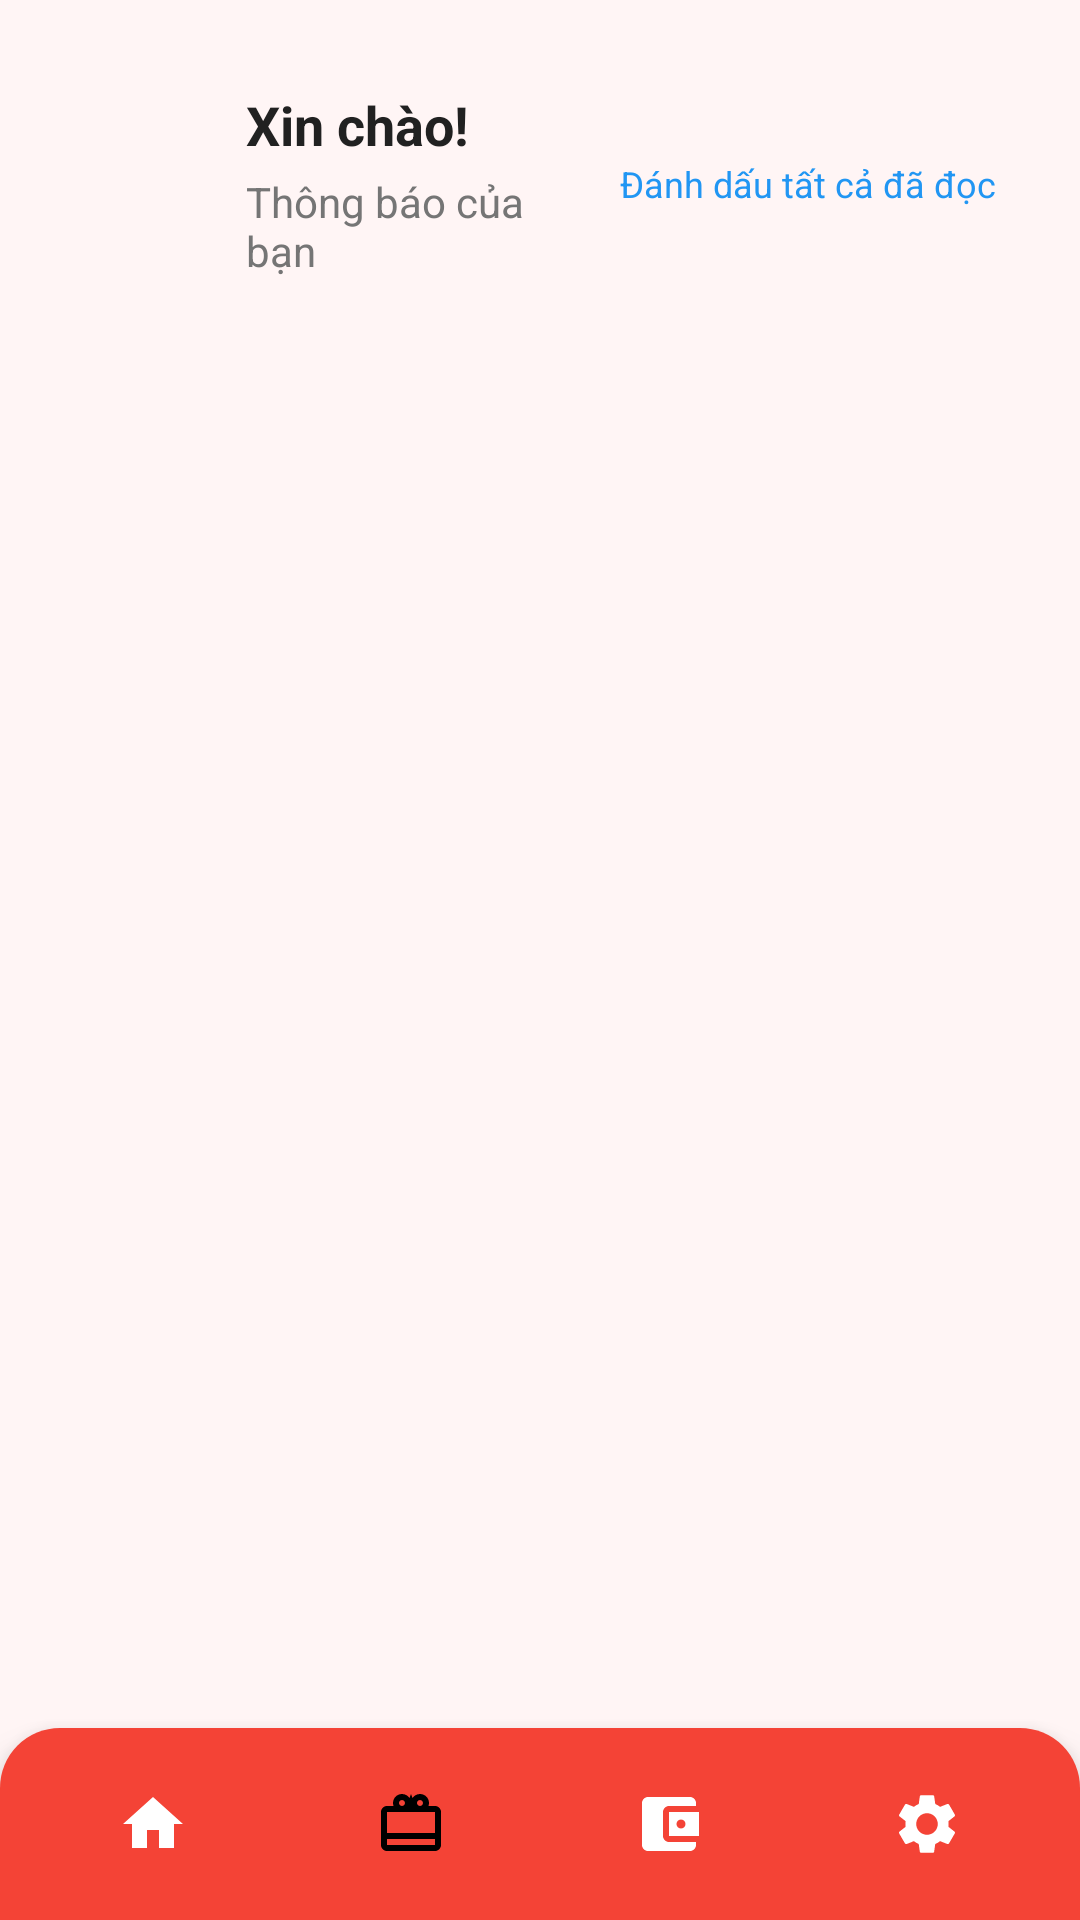

Icon click points for this 1080×1920 phone screenshot, format point (x, y):
Home: point (153, 1822)
Settings: point (927, 1824)
Wallet: point (670, 1824)
